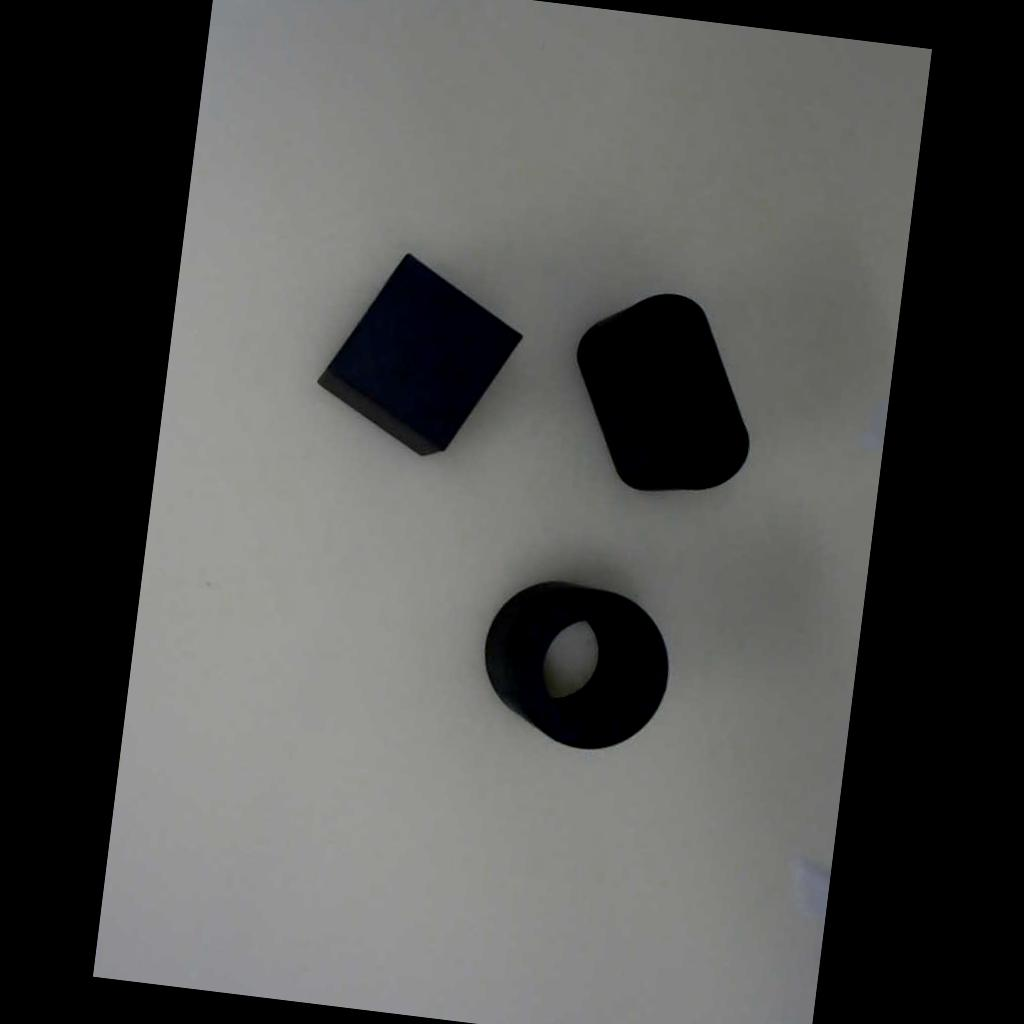oval: (548, 264, 774, 530)
ring: (457, 550, 696, 774)
square: (294, 232, 548, 488)
